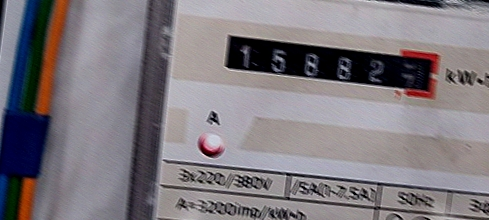1: (236, 40, 253, 69)
2: (366, 56, 385, 85)
5: (267, 45, 289, 74)
7: (397, 70, 416, 89)
8: (300, 49, 319, 79), (334, 52, 352, 82)
screen: (209, 17, 450, 108)
